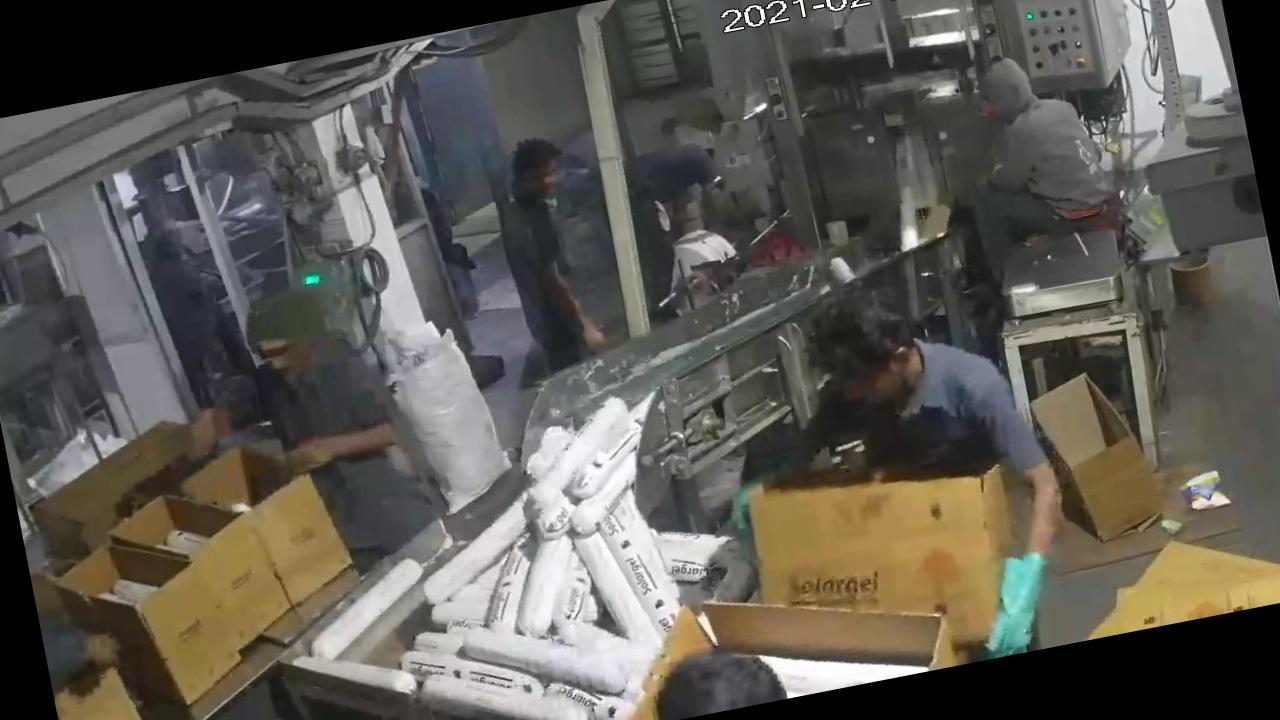Gloves: (963, 524, 1087, 660)
No-gloves: (527, 229, 638, 380), (266, 400, 421, 495), (170, 395, 243, 472)
